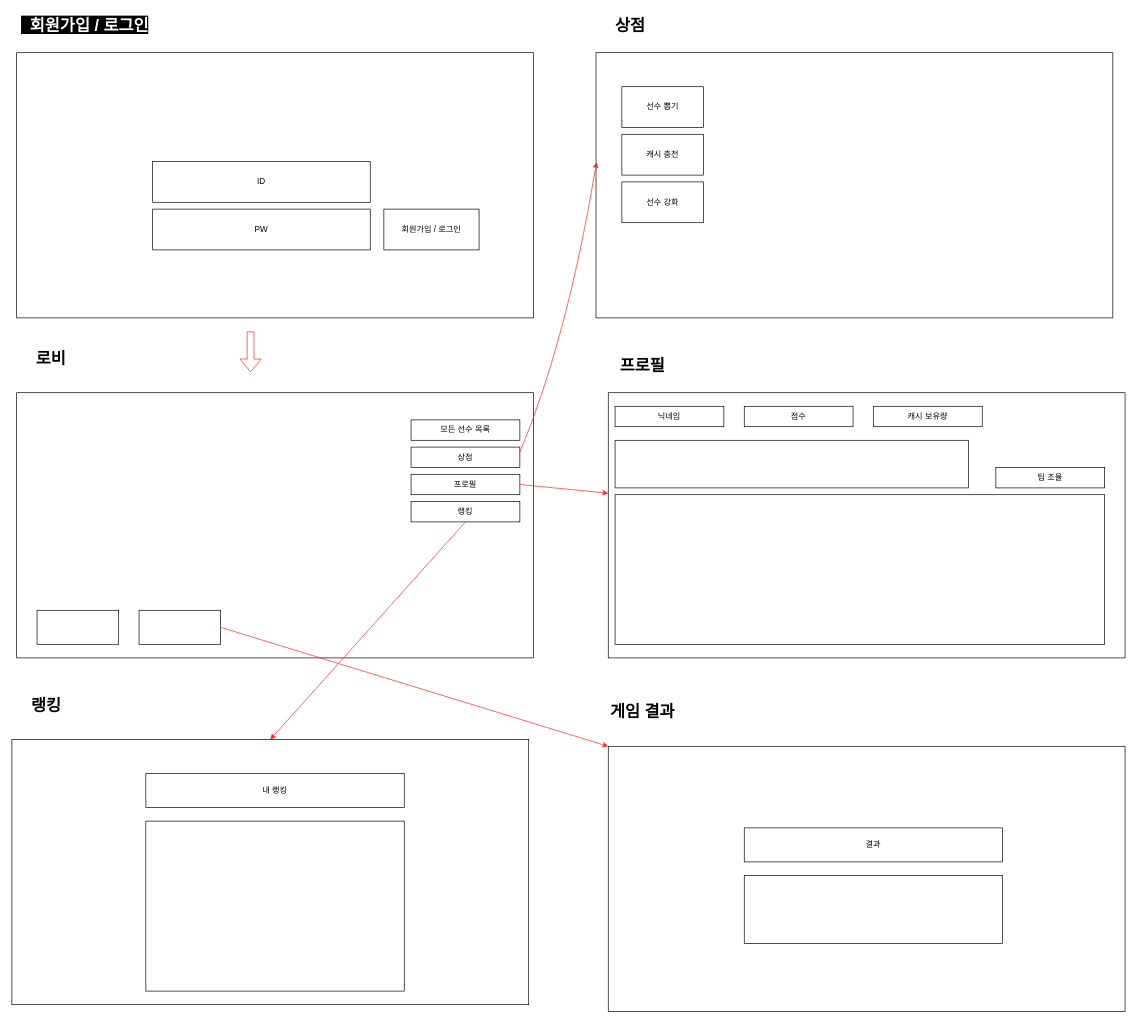
Some shapes in this 1137 by 1023 pixel diagram are drawn without their labels. Each missing label, with the centre of its shape:
"게임 내역 및 점수 변동" goes at point (873, 909).
"구단 스탯 및 전투력" goes at point (791, 464).
"내 선수 (1 ~ 3명)" goes at point (859, 569).
"랭킹 목록" goes at point (274, 905).
"매칭" goes at point (179, 627).
"친선" goes at point (77, 627).
